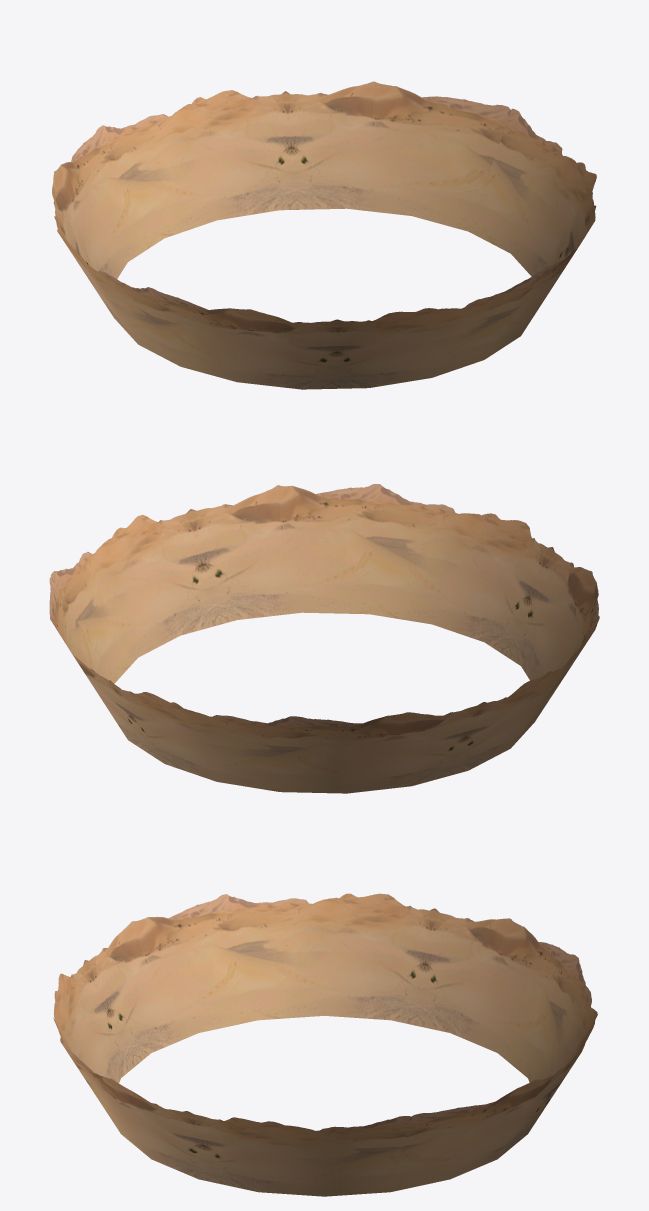
The model's file is yuan1_scene97.fbx.
The picture shows the model from 3 angles, top to bottom: view 1: azimuth 30°, elevation 25°; view 2: azimuth 150°, elevation 25°; view 3: azimuth 270°, elevation 25°; orthographic projection.
Parts seen in each view (by area): view 1: yuan1_scene97; view 2: yuan1_scene97; view 3: yuan1_scene97.
Part boxes in pixels (box(x1,y1,x2,y2)): yuan1_scene97: box(52, 81, 596, 389); yuan1_scene97: box(49, 484, 599, 793); yuan1_scene97: box(53, 893, 597, 1196).
Bounding box in the file's own units: 1075 × 292 × 1075.
Materials: 1 (1 with a texture image).
